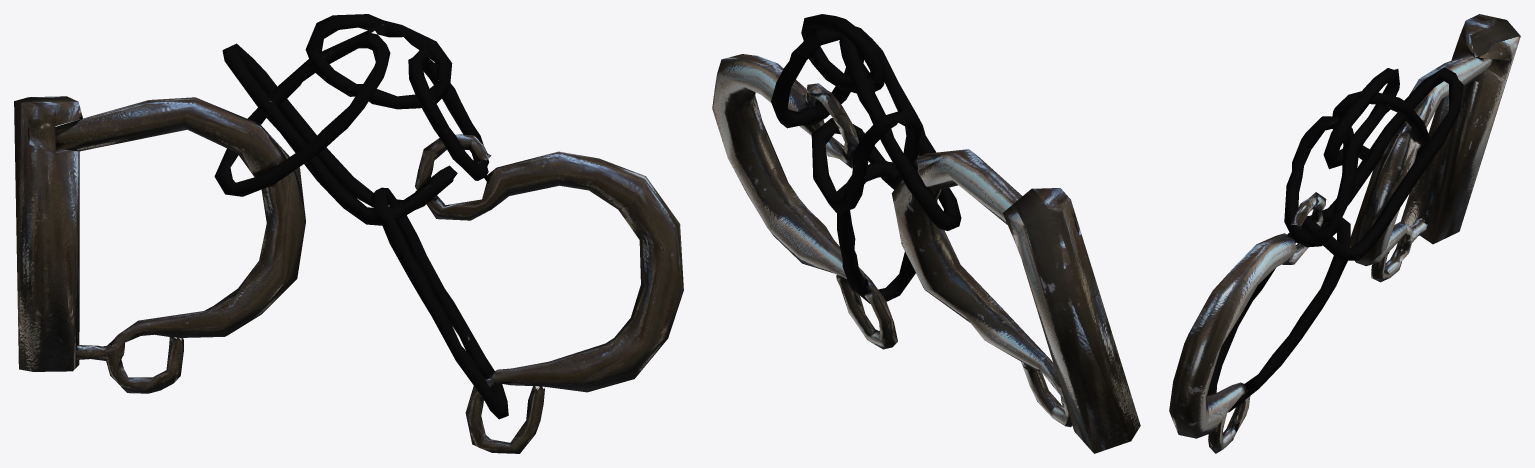
File: handcuffs.fbx
3 renders of one model, left to right at view 1: azimuth 30°, elevation 25°; view 2: azimuth 150°, elevation 25°; view 3: azimuth 270°, elevation 25°, orthographic. The views are drawn at different scales.
Visible parts, largest first — view 1: NurbsCircle.002; view 2: NurbsCircle.002; view 3: NurbsCircle.002.
Boxes of the visible parts, x1,y1,x2,y2 form: NurbsCircle.002: [14, 14, 683, 453]; NurbsCircle.002: [712, 14, 1140, 453]; NurbsCircle.002: [1169, 14, 1520, 453].
Bounding box in the file's own units: 57.69 × 40.48 × 37.06.
Materials: 1 (1 with a texture image).
